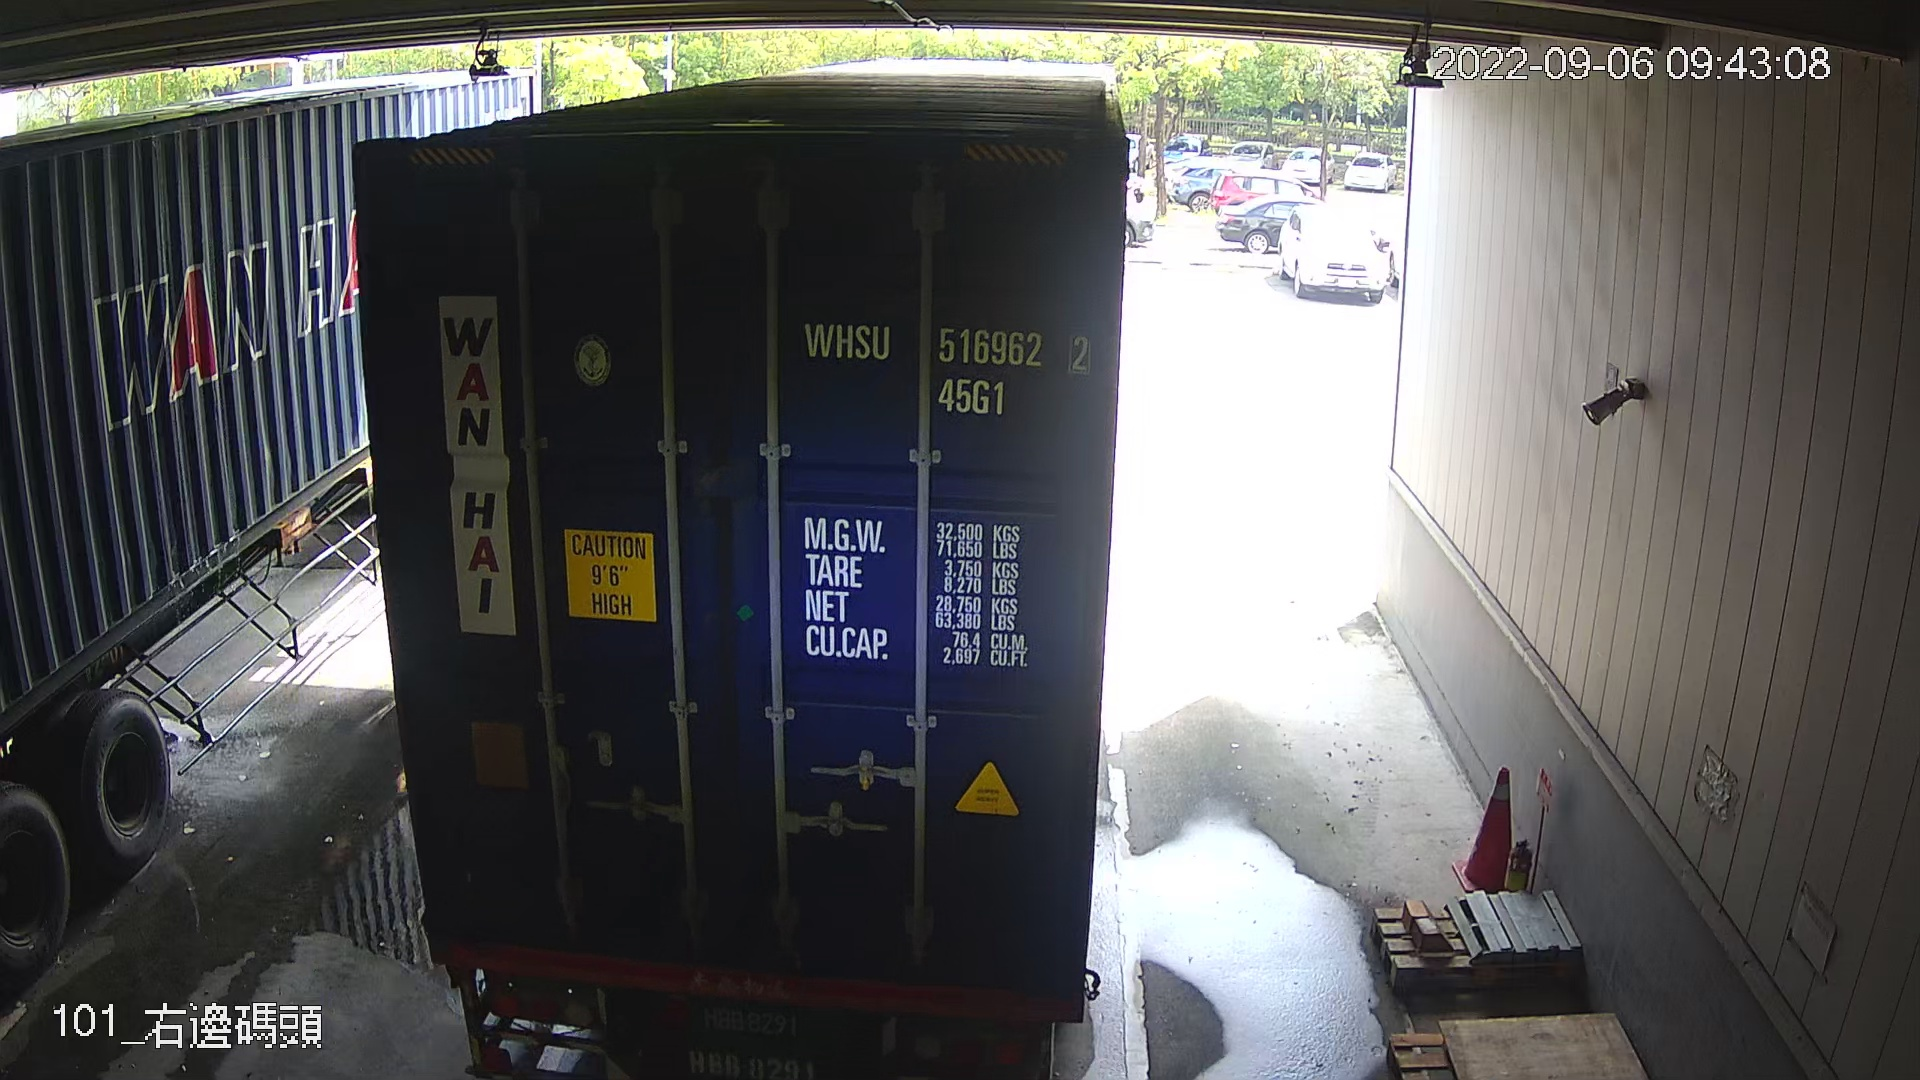container: (787, 307, 1101, 425)
